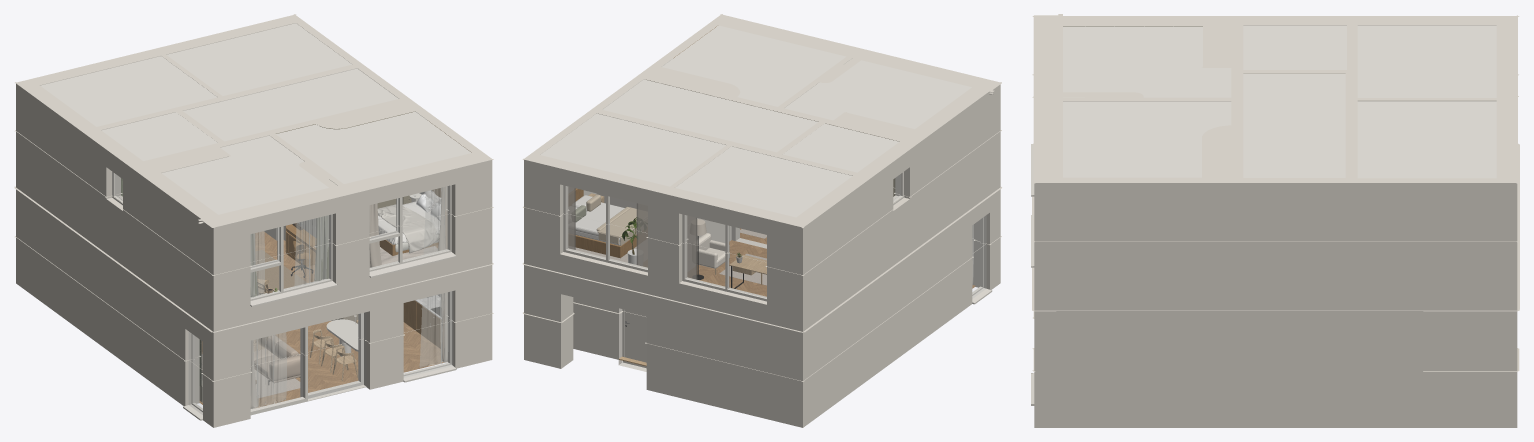
File: wnetrze-BLIZNIAK-v19-m.glb
3 views of the same model, side by side, from view 1: azimuth 30°, elevation 25°; view 2: azimuth 150°, elevation 25°; view 3: azimuth 270°, elevation 25° (orthographic). The views are drawn at different scales.
Parts seen in each view (by area): view 1: KOND_1__SUFIT, KOND_0__SCIANY, KOND_1__SCIANY, KOND_1__WIERZCHY, KOND_0__OKNA, KOND_1__OKNA, KOND_1__WYPOSAZENIE, KOND_0__WYPOSAZENIE, KOND_0__PODLOGA, KOND_0__WIERZCHY, KOND_1__WYPOSAZENIE_DYWAN, KOND_1__PODLOGA (+2 smaller); view 2: KOND_0__SCIANY, KOND_1__SUFIT, KOND_1__SCIANY, KOND_1__WIERZCHY, KOND_1__OKNA, KOND_1__WYPOSAZENIE, KOND_1__PODLOGA, KOND_0__OKNA, KOND_0__WIERZCHY, KOND_0__PRZEKROJ, KOND_1__PRZEKROJ; view 3: KOND_0__SCIANY, KOND_1__SUFIT, KOND_1__SCIANY, KOND_1__WIERZCHY, KOND_0__WIERZCHY, KOND_1__PRZEKROJ.
Boxes of the visible parts, x1=… form: KOND_1__SUFIT: x1=40, y1=23, x2=471, y2=214; KOND_0__SCIANY: x1=16, y1=68, x2=492, y2=427; KOND_1__SCIANY: x1=16, y1=23, x2=492, y2=321; KOND_1__WIERZCHY: x1=15, y1=14, x2=493, y2=227; KOND_0__OKNA: x1=183, y1=291, x2=456, y2=420; KOND_1__OKNA: x1=112, y1=172, x2=456, y2=306; KOND_1__WYPOSAZENIE: x1=121, y1=178, x2=447, y2=297; KOND_0__WYPOSAZENIE: x1=199, y1=292, x2=447, y2=409; KOND_0__PODLOGA: x1=199, y1=321, x2=444, y2=407; KOND_0__WIERZCHY: x1=14, y1=186, x2=493, y2=332; KOND_1__WYPOSAZENIE_DYWAN: x1=255, y1=250, x2=306, y2=294; KOND_1__PODLOGA: x1=255, y1=231, x2=437, y2=282; KOND_0__SCIANY: x1=524, y1=79, x2=1000, y2=427; KOND_1__SUFIT: x1=540, y1=25, x2=971, y2=217; KOND_1__SCIANY: x1=524, y1=26, x2=1000, y2=321; KOND_1__WIERZCHY: x1=522, y1=14, x2=1001, y2=228; KOND_1__OKNA: x1=563, y1=172, x2=904, y2=301; KOND_1__WYPOSAZENIE: x1=568, y1=186, x2=766, y2=288; KOND_1__PODLOGA: x1=697, y1=228, x2=766, y2=296; KOND_0__OKNA: x1=972, y1=216, x2=992, y2=304; KOND_0__WIERZCHY: x1=522, y1=187, x2=1001, y2=332; KOND_0__PRZEKROJ: x1=523, y1=236, x2=1001, y2=381; KOND_1__PRZEKROJ: x1=523, y1=130, x2=1001, y2=275; KOND_0__SCIANY: x1=1034, y1=183, x2=1517, y2=427; KOND_1__SUFIT: x1=1063, y1=25, x2=1496, y2=178; KOND_1__SCIANY: x1=1034, y1=25, x2=1517, y2=297; KOND_1__WIERZCHY: x1=1032, y1=14, x2=1519, y2=183; KOND_0__WIERZCHY: x1=1032, y1=143, x2=1519, y2=311; KOND_1__PRZEKROJ: x1=1032, y1=74, x2=1518, y2=242.
Size of the model in its own units: 8.31 by 5.75 by 10.12.
Materials: 194 (88 with a texture image).
